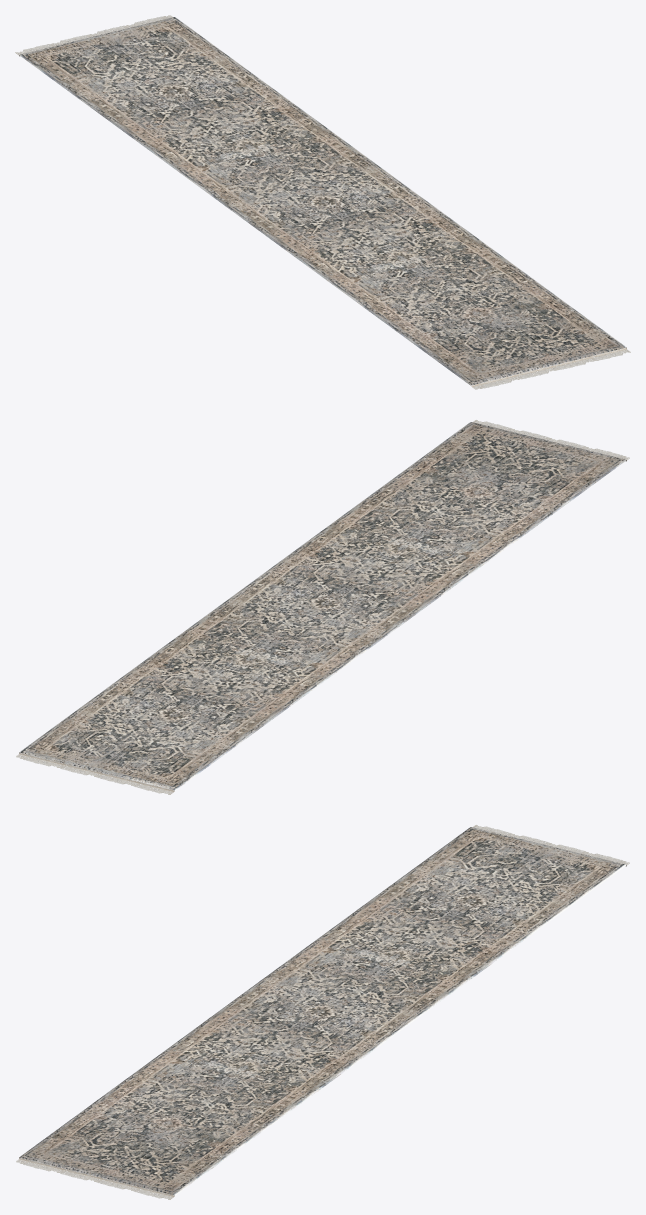
The model's file is tabriz-alvin-runner.glb.
3 renders of one model, top to bottom at view 1: azimuth 30°, elevation 25°; view 2: azimuth 150°, elevation 25°; view 3: azimuth 330°, elevation 25°, orthographic.
Parts seen in each view (by area): view 1: runner; view 2: runner; view 3: runner.
Part boxes in pixels (left/top/right/bottom): runner: left=15, top=15, right=630, bottom=389; runner: left=16, top=420, right=629, bottom=794; runner: left=16, top=825, right=629, bottom=1199.
Size of the model in its own units: 0.8 by 0.0138 by 4.1.
Materials: 7 (6 with a texture image).
